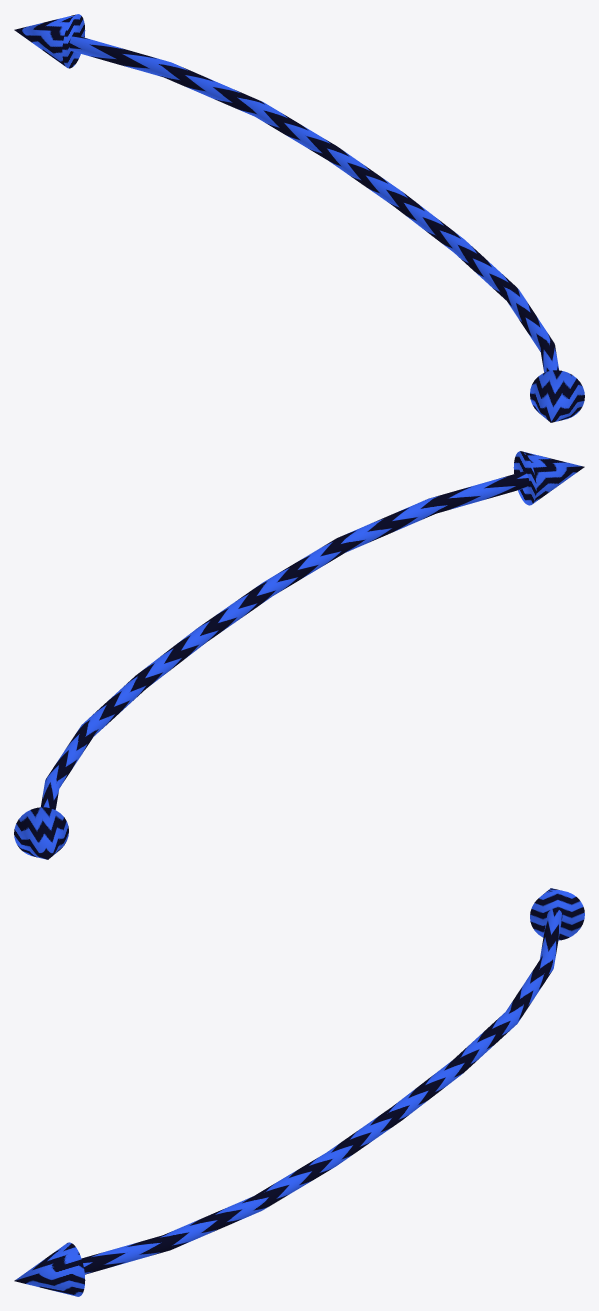
File: Spotlight_BlueArrow_Lat.glb
The picture shows the model from 3 angles, top to bottom: view 1: azimuth 30°, elevation 25°; view 2: azimuth 150°, elevation 25°; view 3: azimuth 330°, elevation 25°; orthographic projection.
Visible parts, largest first — view 1: Cylinder.012, Cone.023, Cone.006; view 2: Cylinder.012, Cone.006, Cone.023; view 3: Cylinder.012, Cone.023, Cone.006.
Part boxes in pixels (x1=…): Cylinder.012: x1=69, y1=34, x2=558, y2=372; Cone.023: x1=530, y1=370, x2=584, y2=422; Cone.006: x1=14, y1=14, x2=85, y2=68; Cylinder.012: x1=41, y1=471, x2=528, y2=809; Cone.006: x1=14, y1=807, x2=68, y2=859; Cone.023: x1=513, y1=451, x2=584, y2=505; Cylinder.012: x1=81, y1=908, x2=562, y2=1274; Cone.023: x1=14, y1=1242, x2=85, y2=1296; Cone.006: x1=530, y1=888, x2=584, y2=940.
Size of the model in its own units: 0.2303 by 0.0901 by 1.75.
2 materials, 2 textured.
